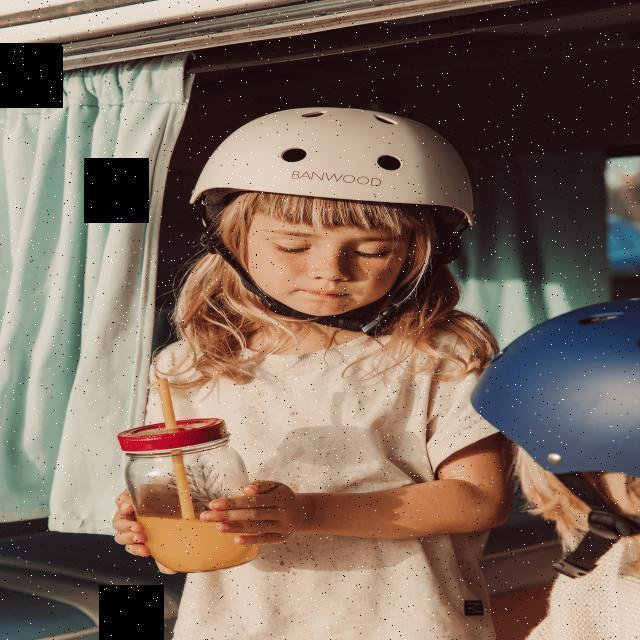helmet: (190, 102, 480, 336)
